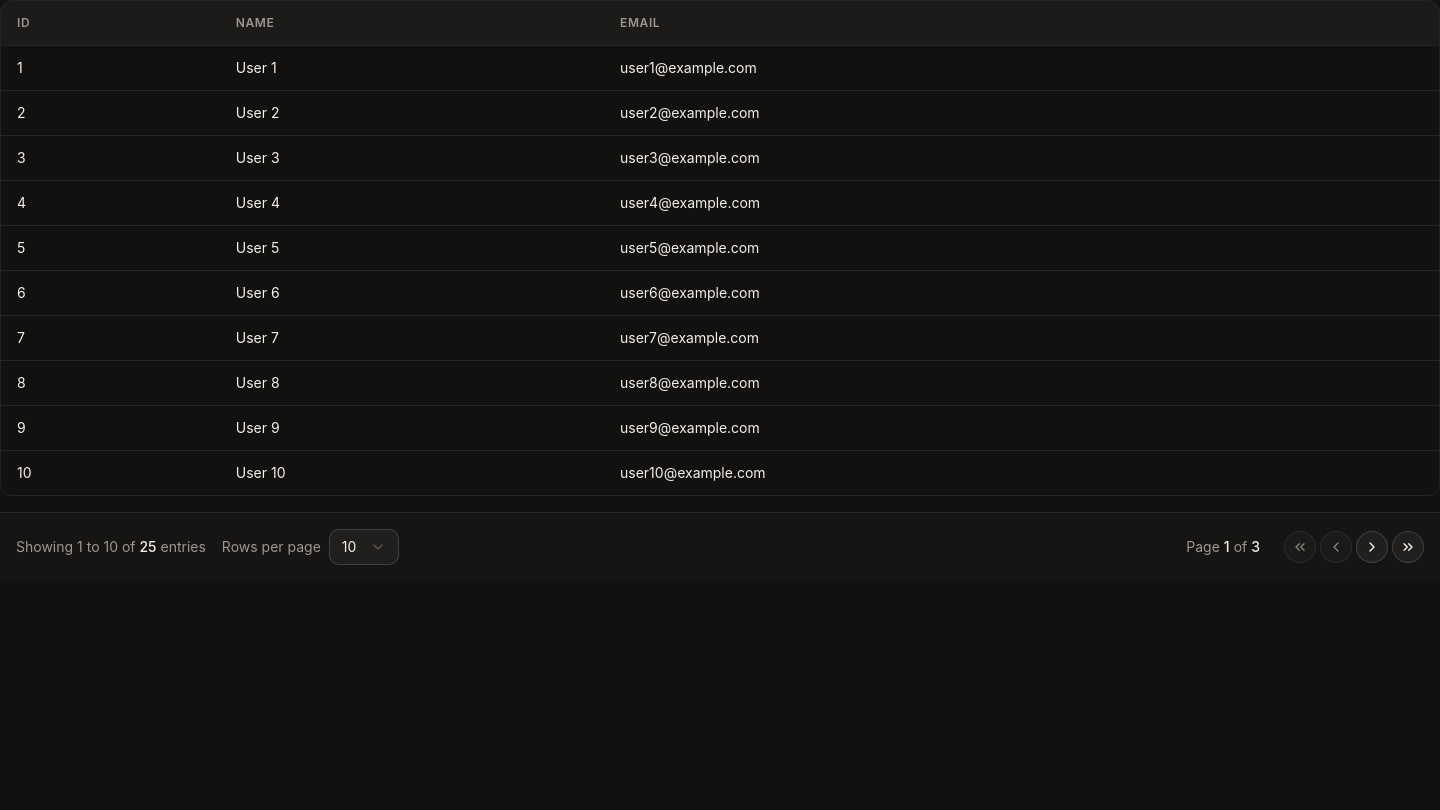
Scenario: DataTable › pagination › navigates to next page when next button clicked
The image size is (1440, 810).
expect the text "User 1" is shown: met, box [220,45,604,90]
expect the text "User 11" is not shown: met
Click the 3rd button at (1372, 546), box [1356,530,1388,562]
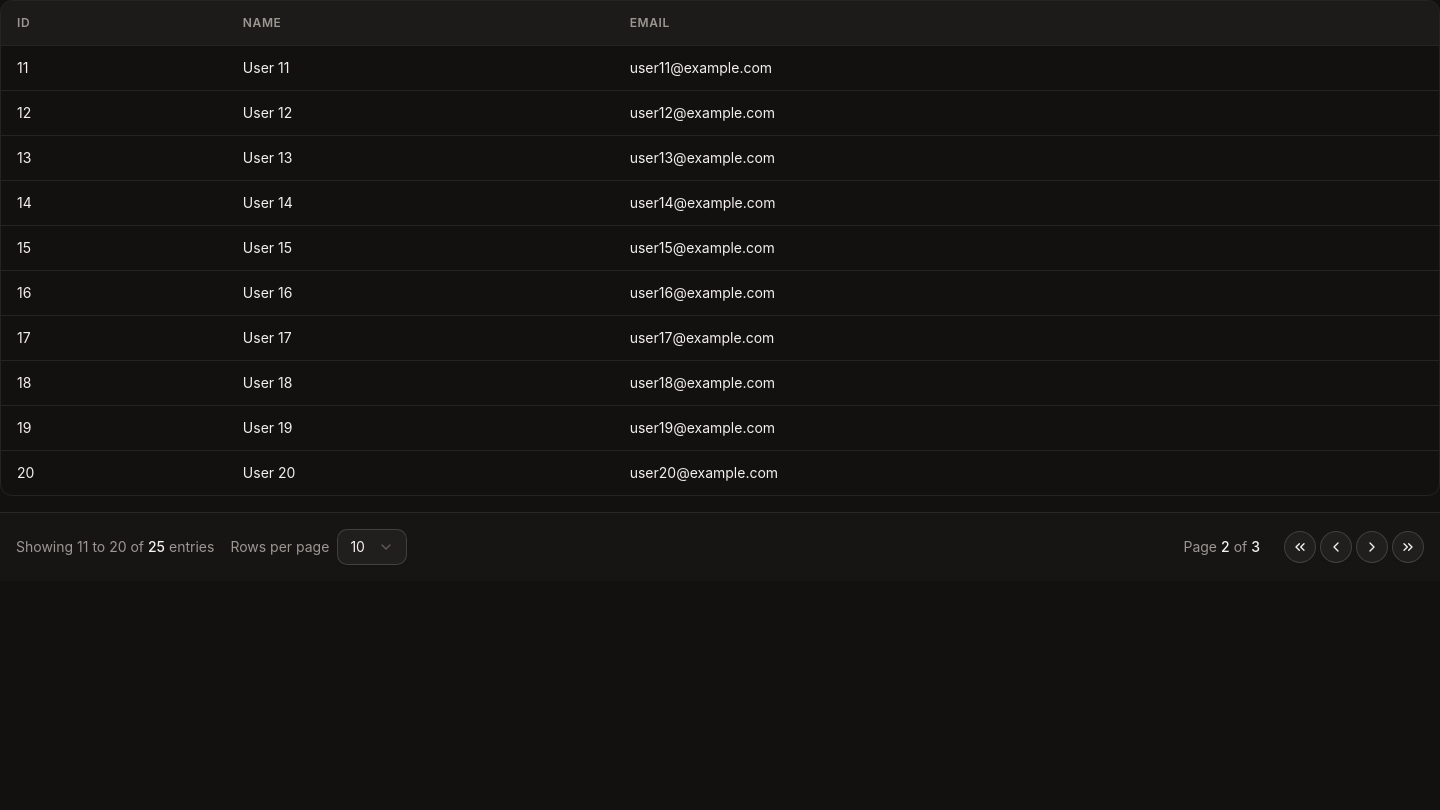
expect the text "User 11" is shown: met, box [227,45,614,90]
